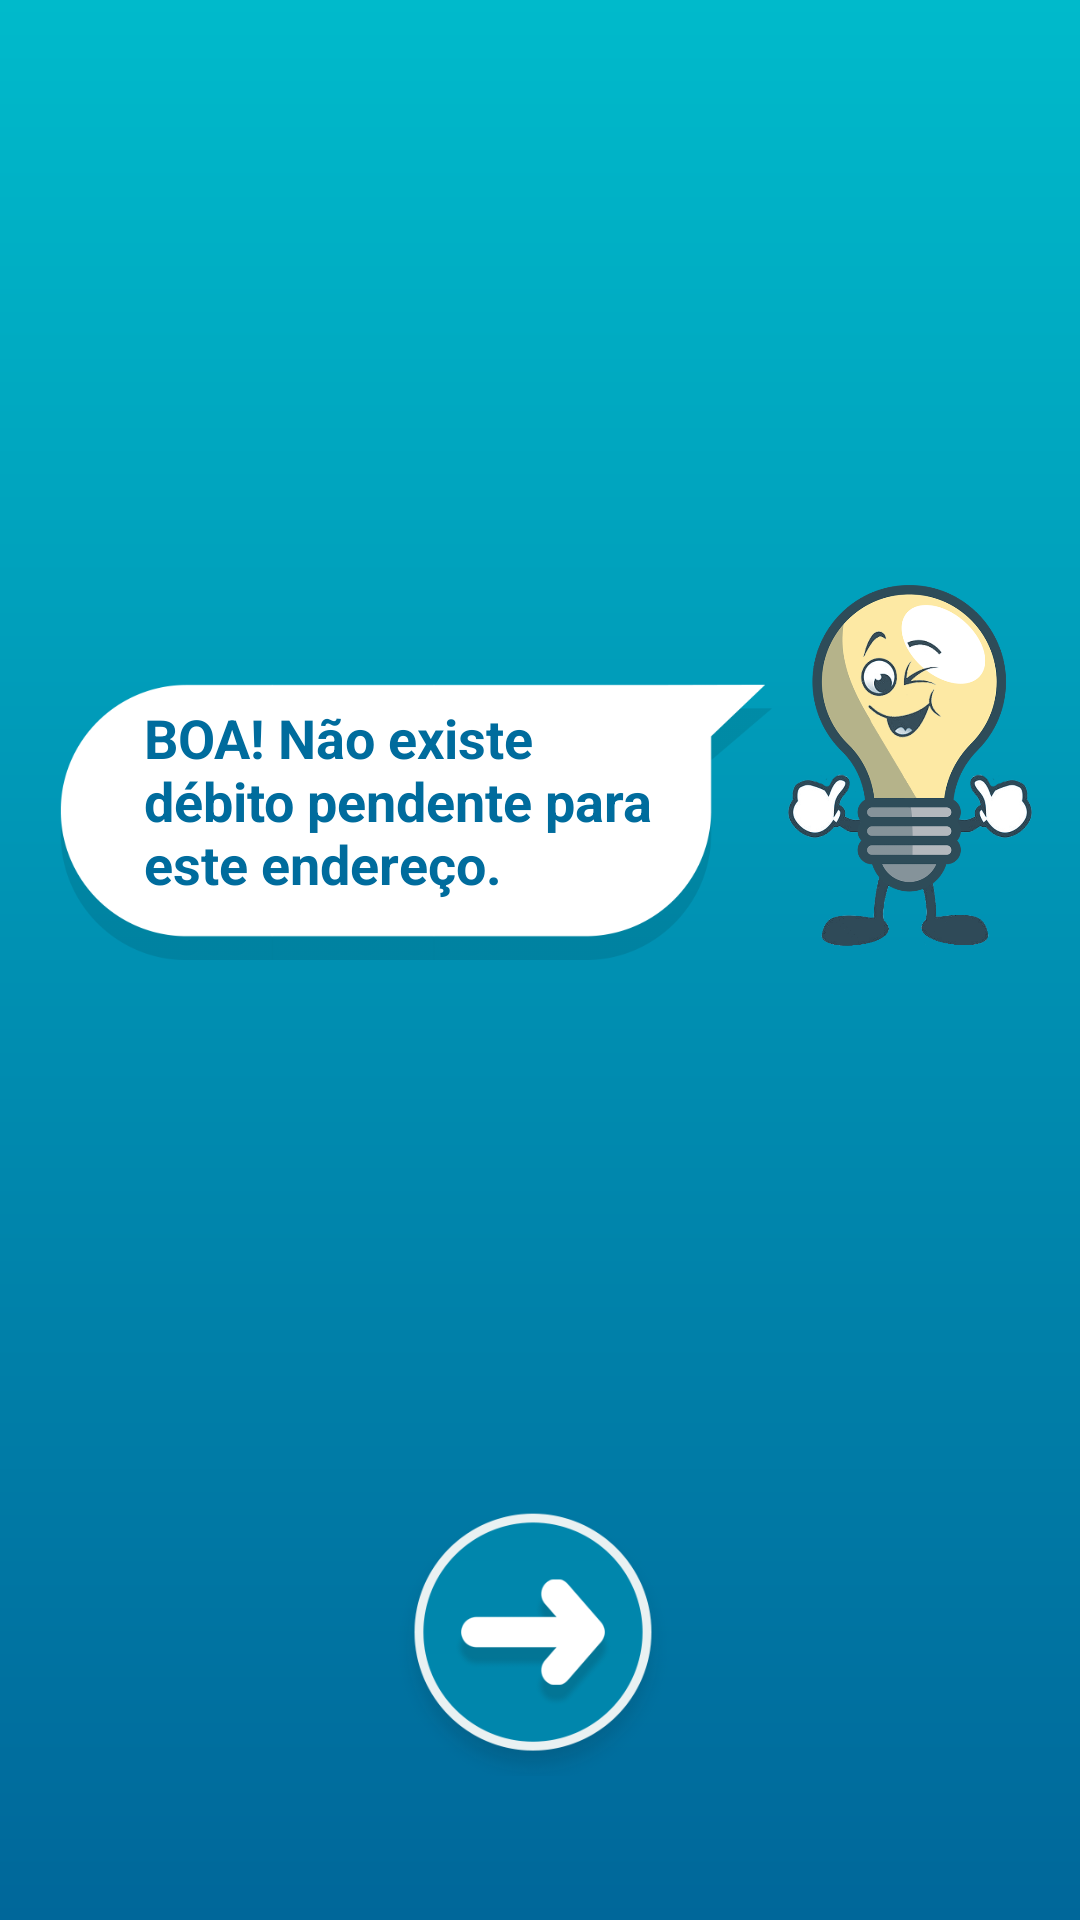

Where to tap for icons on this 1080 x 1920 app screen, as [x,y]:
next: [533,1632]
